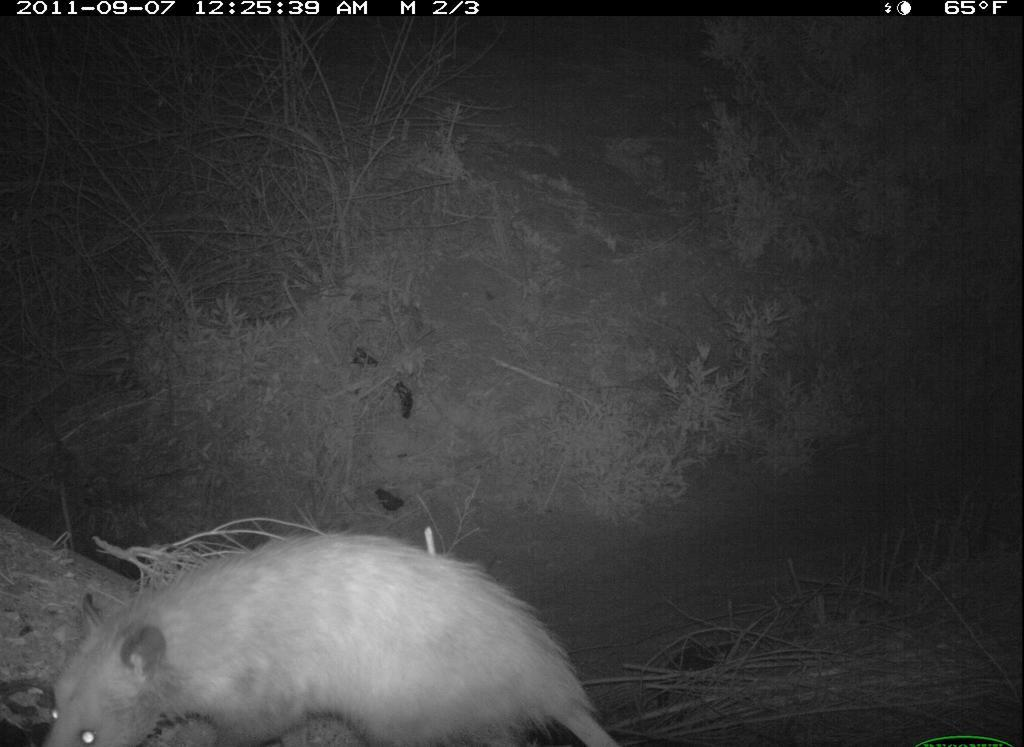opossum: (25, 534, 632, 747)
